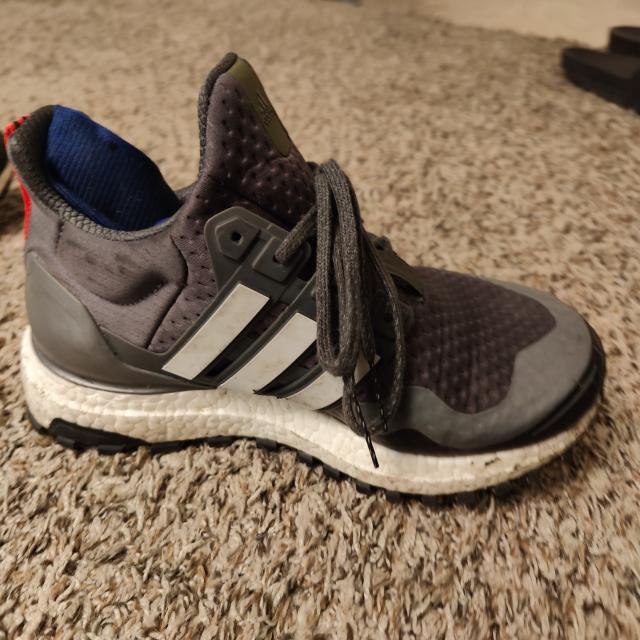black shoes: (2, 51, 604, 533)
